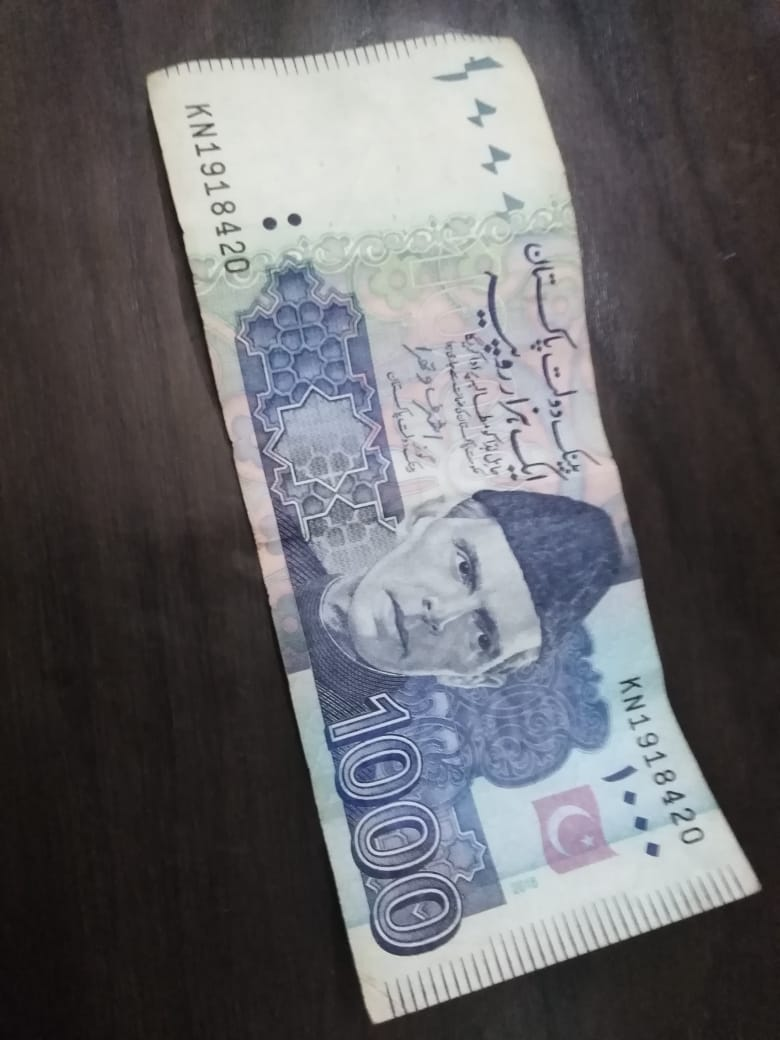1000 rupee: (127, 22, 755, 1005)
